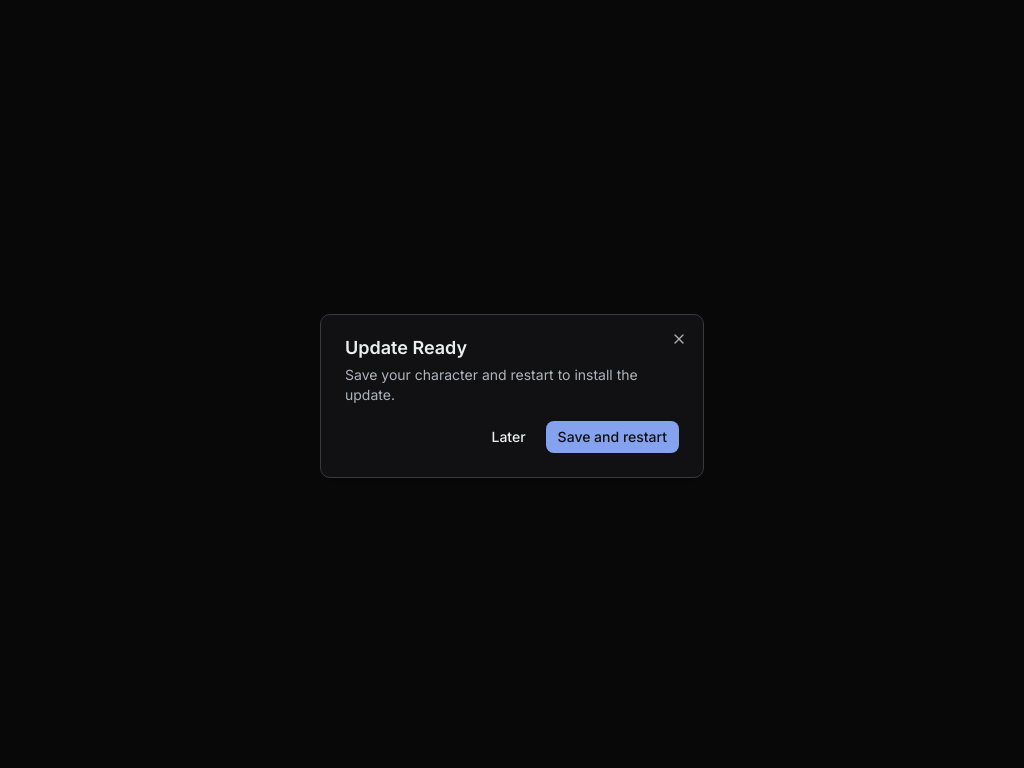
Test: update modals › can defer a downloaded update and wait for durable save before a requested restart
Earlier steps of the test are not shown.
Later steps or results of the test are not shown.
Click the button "Save and restart" at x=612, y=437, box [546,421,679,453]
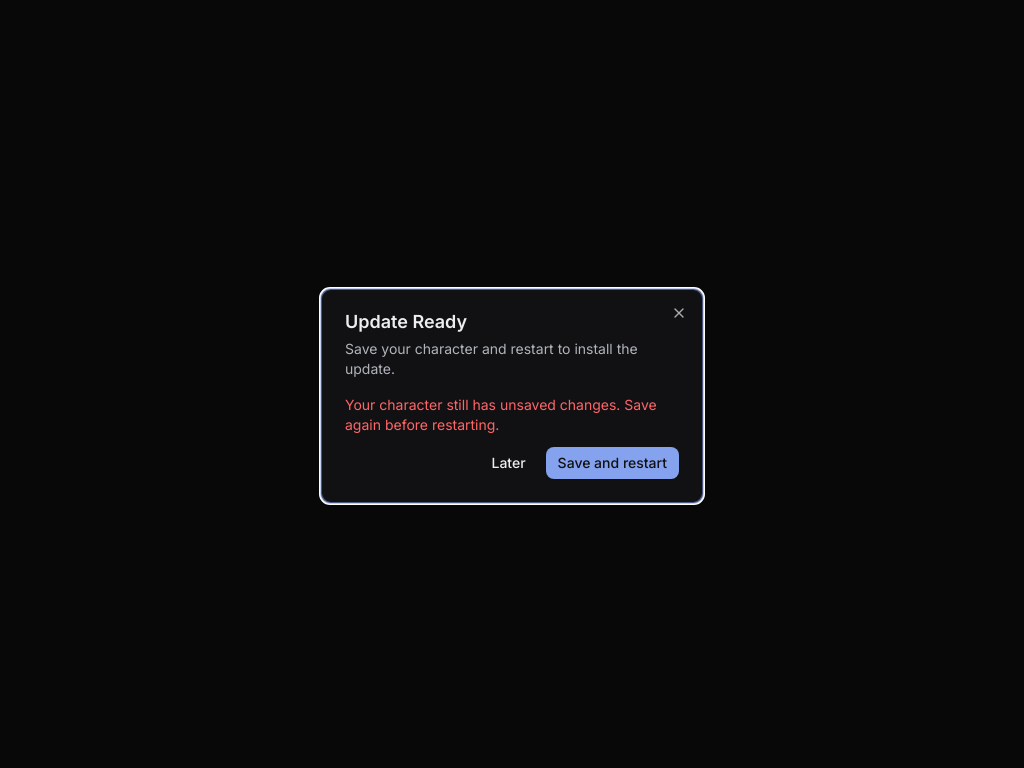
Expected: the message shows "still has unsaved changes", [345,396,657,433]
